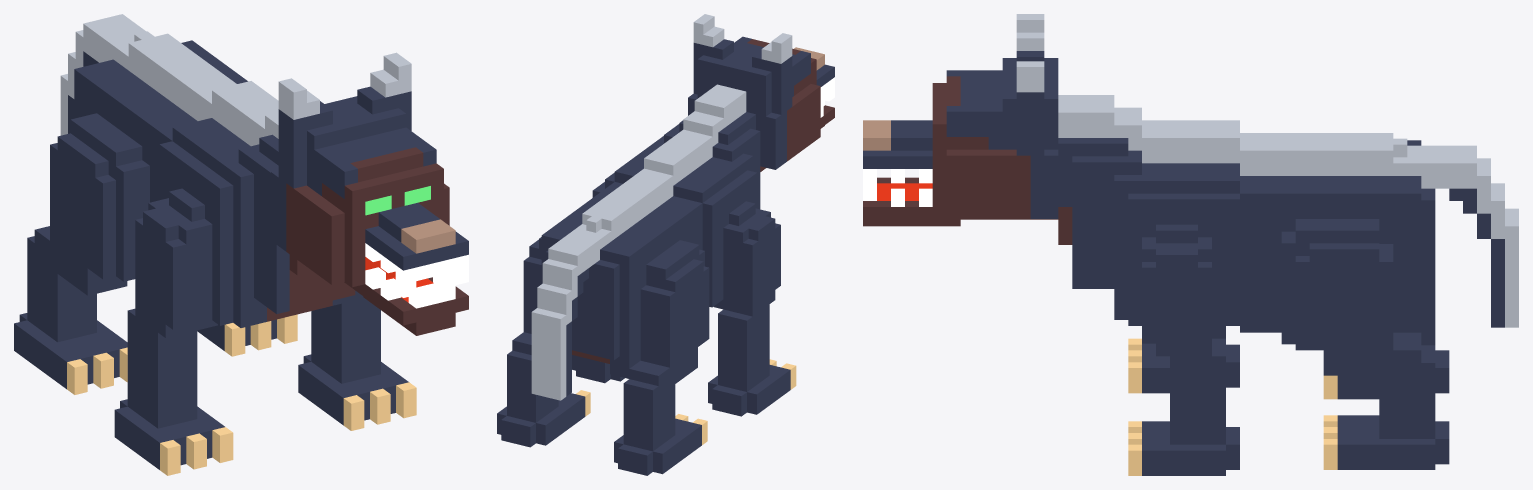
The model's file is Wolfglb.glb.
3 renders of one model, left to right at view 1: azimuth 30°, elevation 25°; view 2: azimuth 150°, elevation 25°; view 3: azimuth 270°, elevation 25°, orthographic. The views are drawn at different scales.
Parts seen in each view (by area): view 1: vox_2247.005, vox_2247.006, vox_2247, vox_2247.002, vox_2247.003, vox_2247.004, vox_2247.001; view 2: vox_2247.006, vox_2247, vox_2247.005, vox_2247.002, vox_2247.004, vox_2247.001, vox_2247.003; view 3: vox_2247.006, vox_2247.005, vox_2247.001, vox_2247.003, vox_2247.004, vox_2247.002, vox_2247.
Part boxes in pixels (<box>): vox_2247.005: <box>271,52,468,335</box>; vox_2247.006: <box>74,30,359,327</box>; vox_2247: <box>14,113,149,394</box>; vox_2247.002: <box>114,188,233,475</box>; vox_2247.003: <box>298,294,416,430</box>; vox_2247.004: <box>60,14,144,135</box>; vox_2247.001: <box>197,314,297,356</box>; vox_2247.006: <box>541,84,760,368</box>; vox_2247: <box>610,240,709,475</box>; vox_2247.005: <box>688,14,834,171</box>; vox_2247.002: <box>708,201,796,416</box>; vox_2247.004: <box>531,236,594,400</box>; vox_2247.001: <box>497,237,590,447</box>; vox_2247.003: <box>572,182,624,383</box>; vox_2247.006: <box>1058,95,1435,332</box>; vox_2247.005: <box>863,14,1058,226</box>; vox_2247.001: <box>1281,219,1449,469</box>; vox_2247.003: <box>1128,224,1239,475</box>; vox_2247.004: <box>1435,145,1518,327</box>; vox_2247.002: <box>1128,326,1239,393</box>; vox_2247: <box>1323,314,1449,399</box>.
Bounding box in the file's own units: 1.9 × 3 × 4.7.
